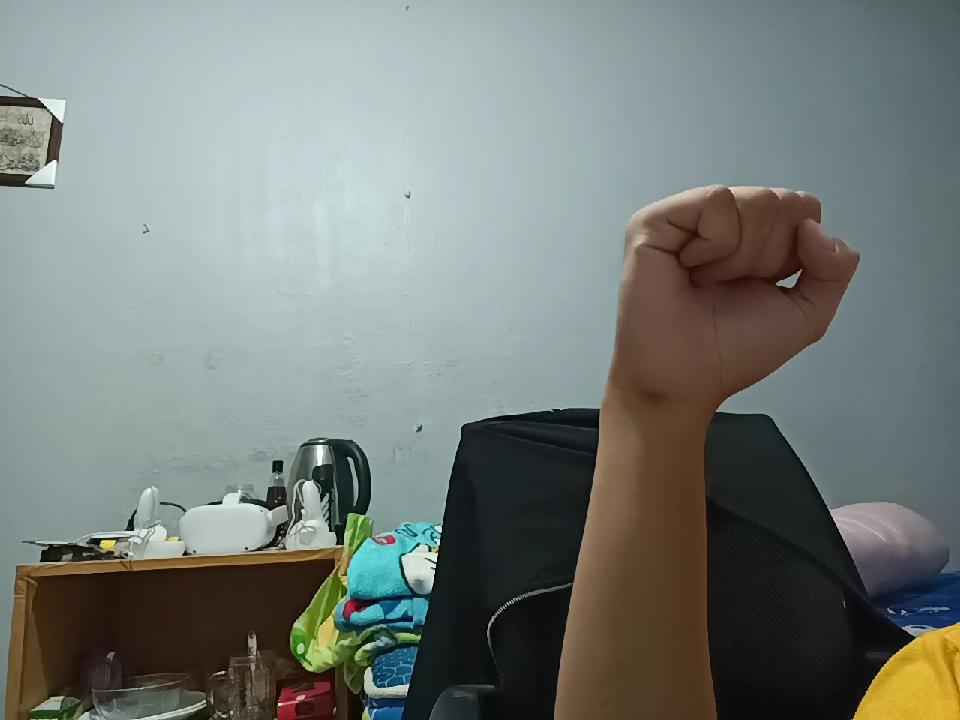rock: (608, 168, 856, 412)
